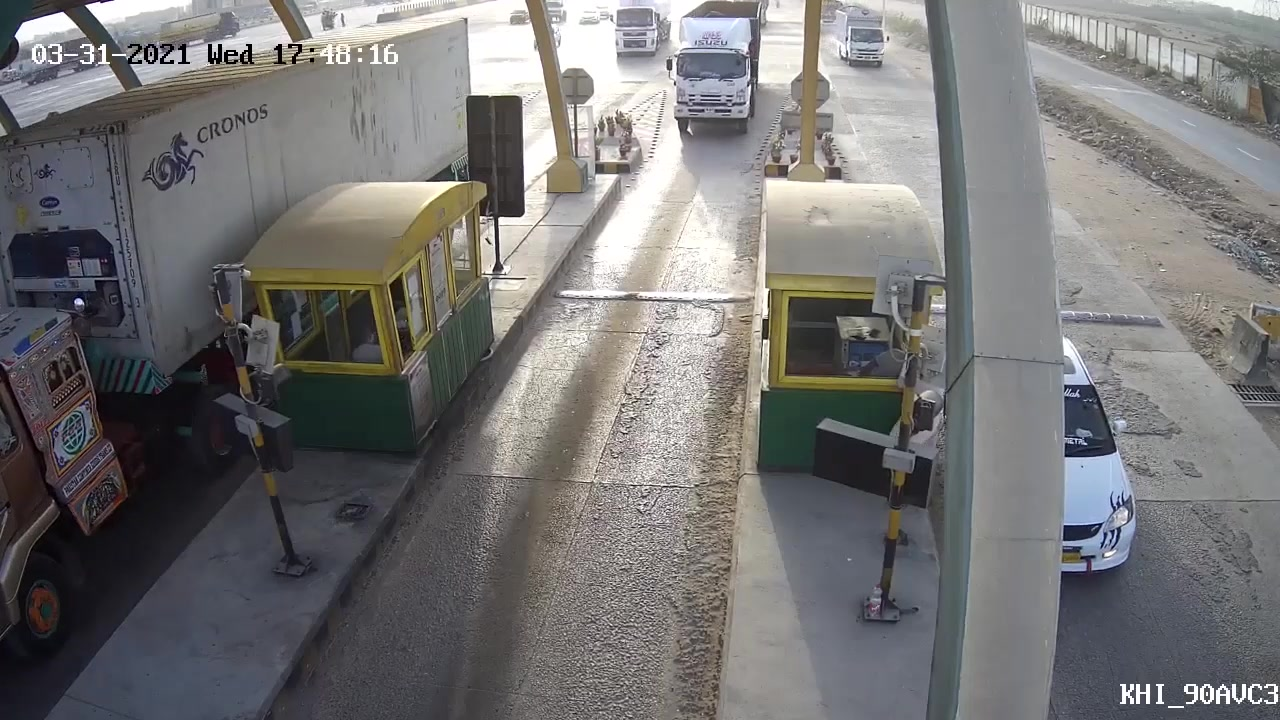F5: (660, 1, 777, 147)
